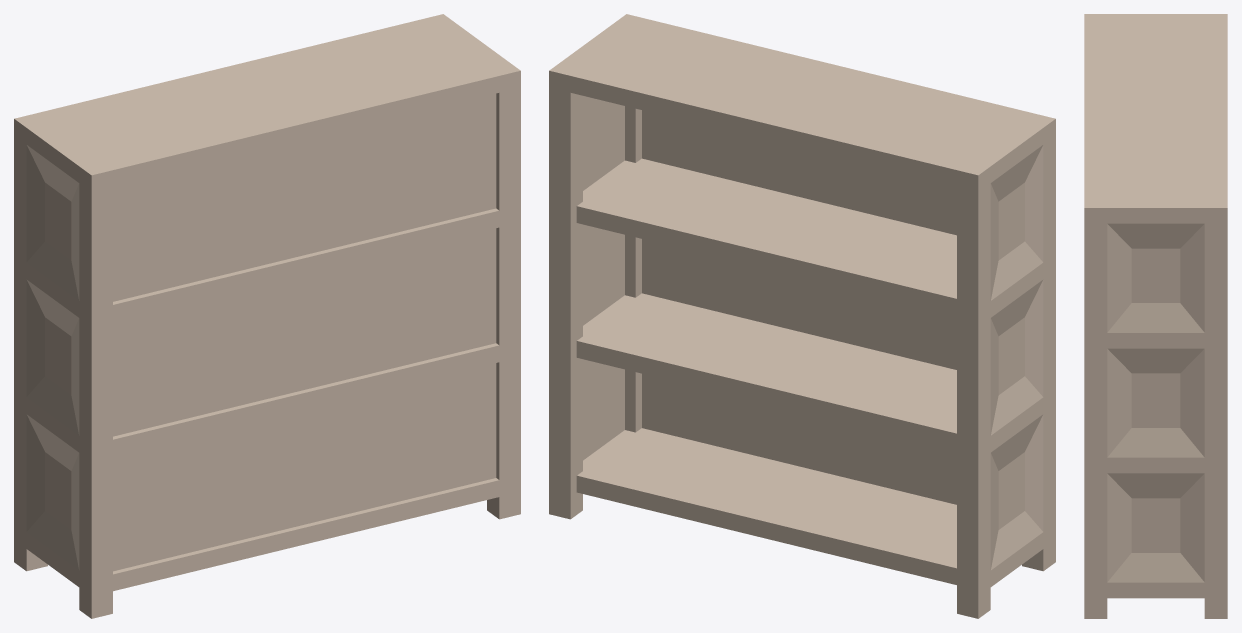
The model's file is furn_bookcaseClosedWide.glb.
3 views of the same model, side by side, from view 1: azimuth 30°, elevation 25°; view 2: azimuth 150°, elevation 25°; view 3: azimuth 270°, elevation 25° (orthographic). The views are drawn at different scales.
Bounding box in the file's own units: 1.6 × 1.58 × 0.5.
